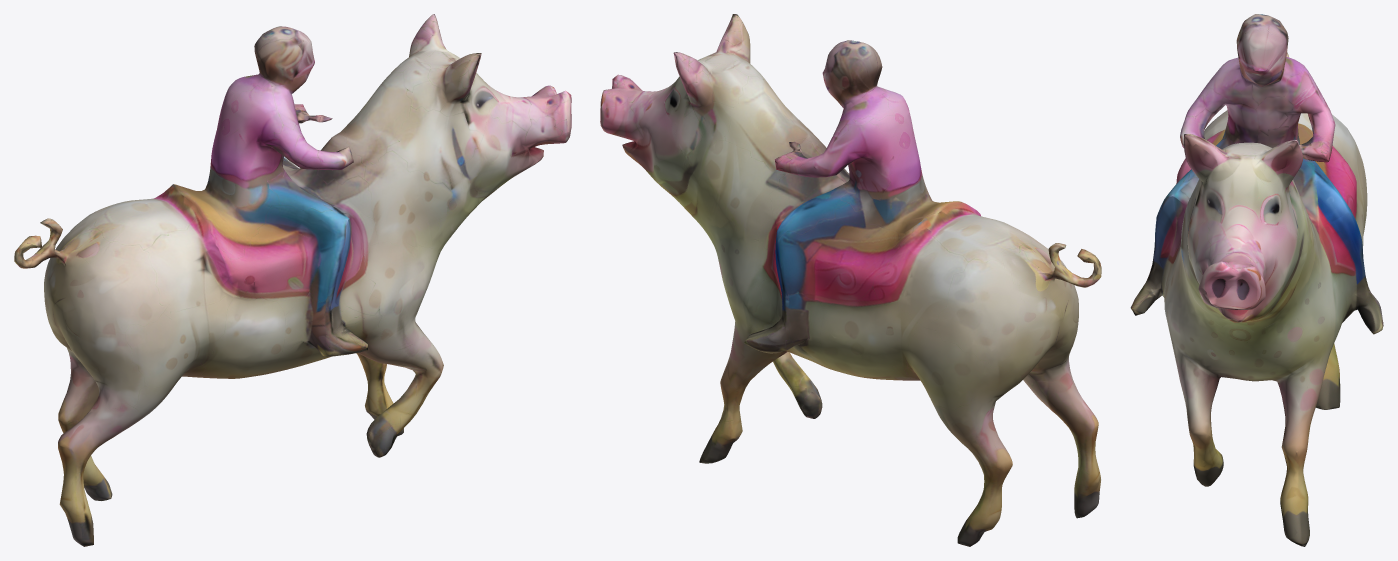
The model's file is a_pig_riding_a_horse,_very_happy_0412082557_refine.obj.
3 views of the same model, side by side, from view 1: azimuth 30°, elevation 25°; view 2: azimuth 150°, elevation 25°; view 3: azimuth 270°, elevation 25° (orthographic). The views are drawn at different scales.
Visible parts, largest first — view 1: Mesh_0; view 2: Mesh_0; view 3: Mesh_0.
Boxes of the visible parts, <box> form: Mesh_0: <box>14,14,571,546</box>; Mesh_0: <box>600,14,1101,546</box>; Mesh_0: <box>1130,14,1383,546</box>.
Bounding box in the file's own units: 1.2 × 0.9871 × 0.486.
Materials: 1 (1 with a texture image).
